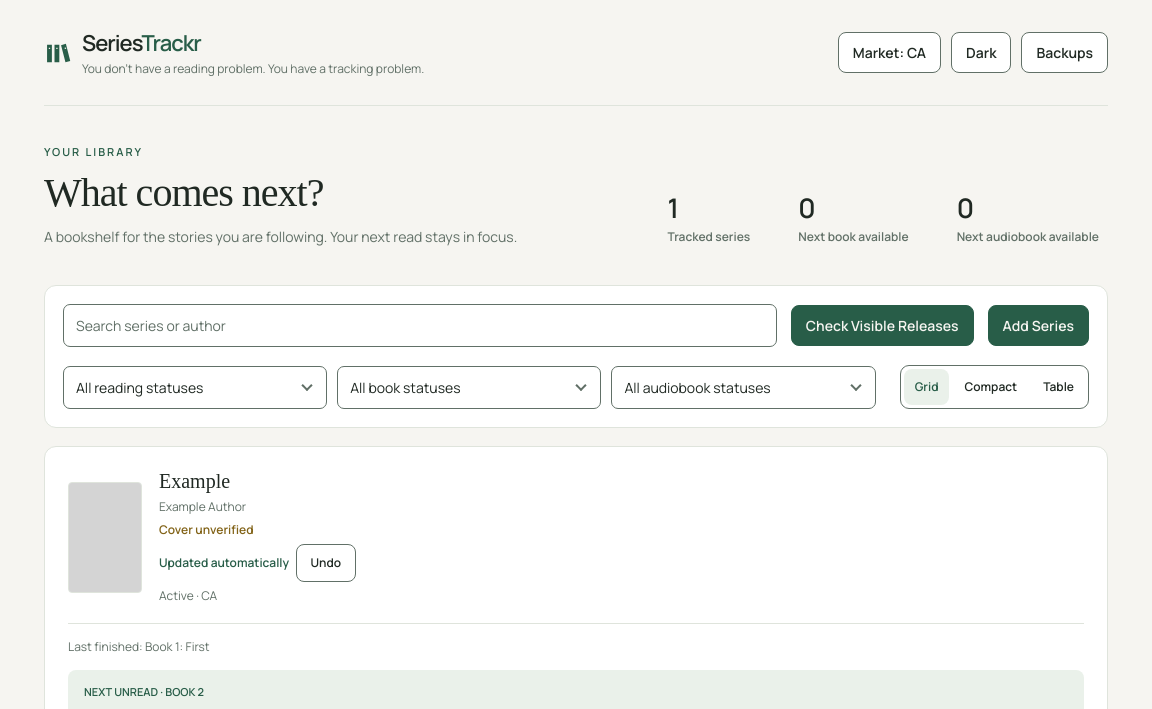
Test: on open, a stale series with a safe result is updated automatically and shows the badge
Check: the text "Updated automatically" is shown, box [159,554,289,570]
Click the button with aria-label "Undo automatic update for Example" at (326,562), box [296,544,356,582]
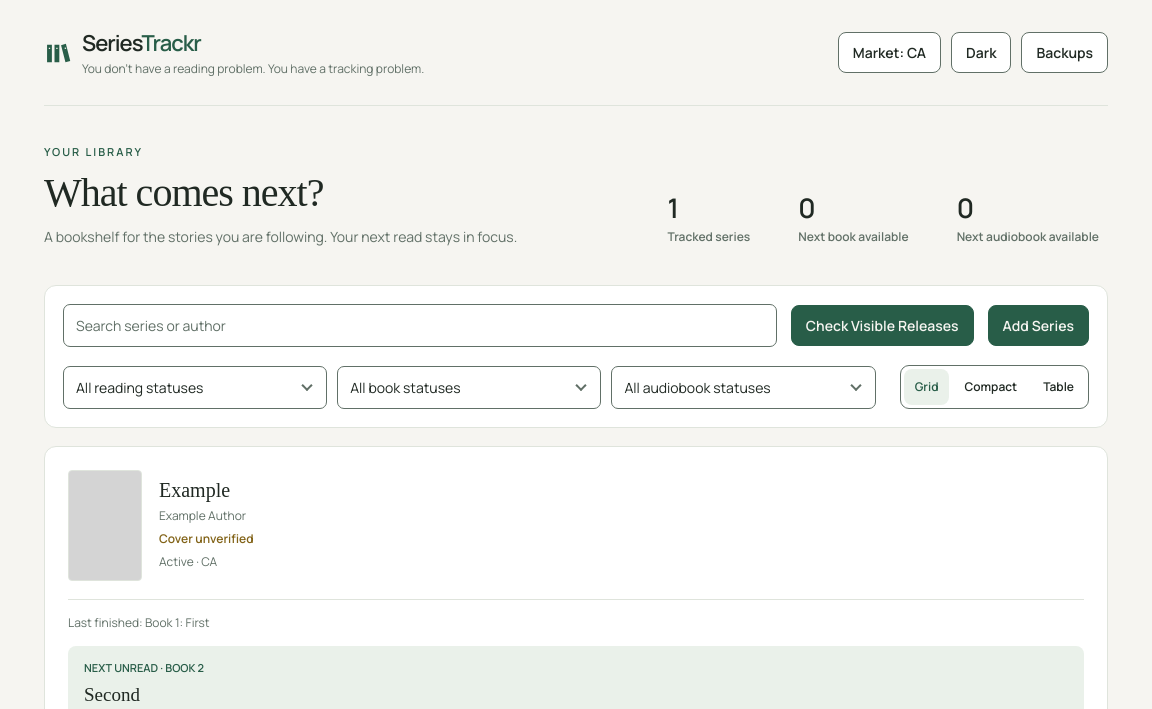
Check: the text "Updated automatically" is gone
